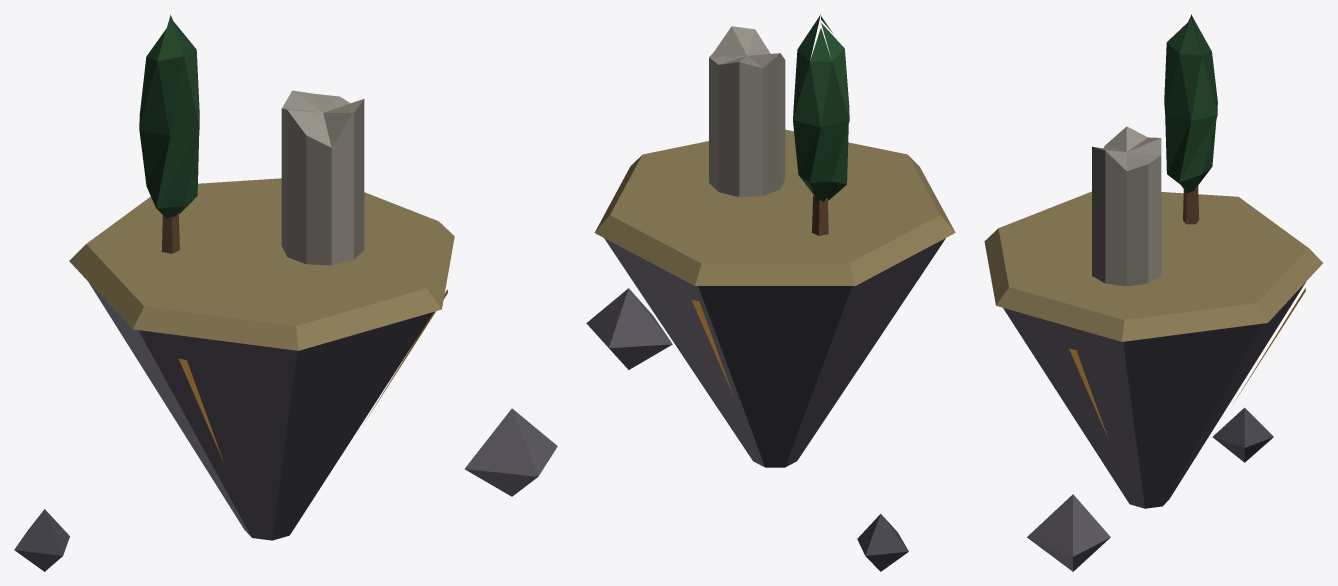
The model's file is floating_rock.glb.
The picture shows the model from 3 angles, left to right: view 1: azimuth 30°, elevation 25°; view 2: azimuth 150°, elevation 25°; view 3: azimuth 270°, elevation 25°; orthographic projection. The views are drawn at different scales.
Parts seen in each view (by area): view 1: floating_rock2; view 2: floating_rock2; view 3: floating_rock2.
Part boxes in pixels (box(x1,y1,x2,y2)): floating_rock2: box(14, 15, 557, 571); floating_rock2: box(586, 14, 955, 571); floating_rock2: box(984, 14, 1322, 571).
Bounding box in the file's own units: 6.34 × 7.56 × 4.74.
